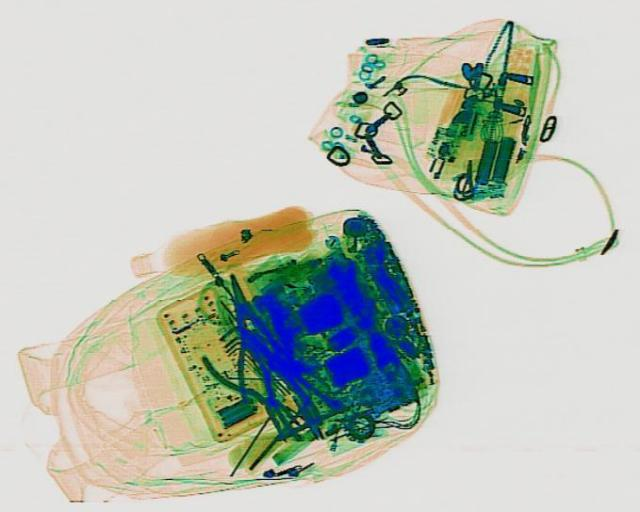Pliers: (196, 266, 310, 401), (194, 335, 318, 444)
